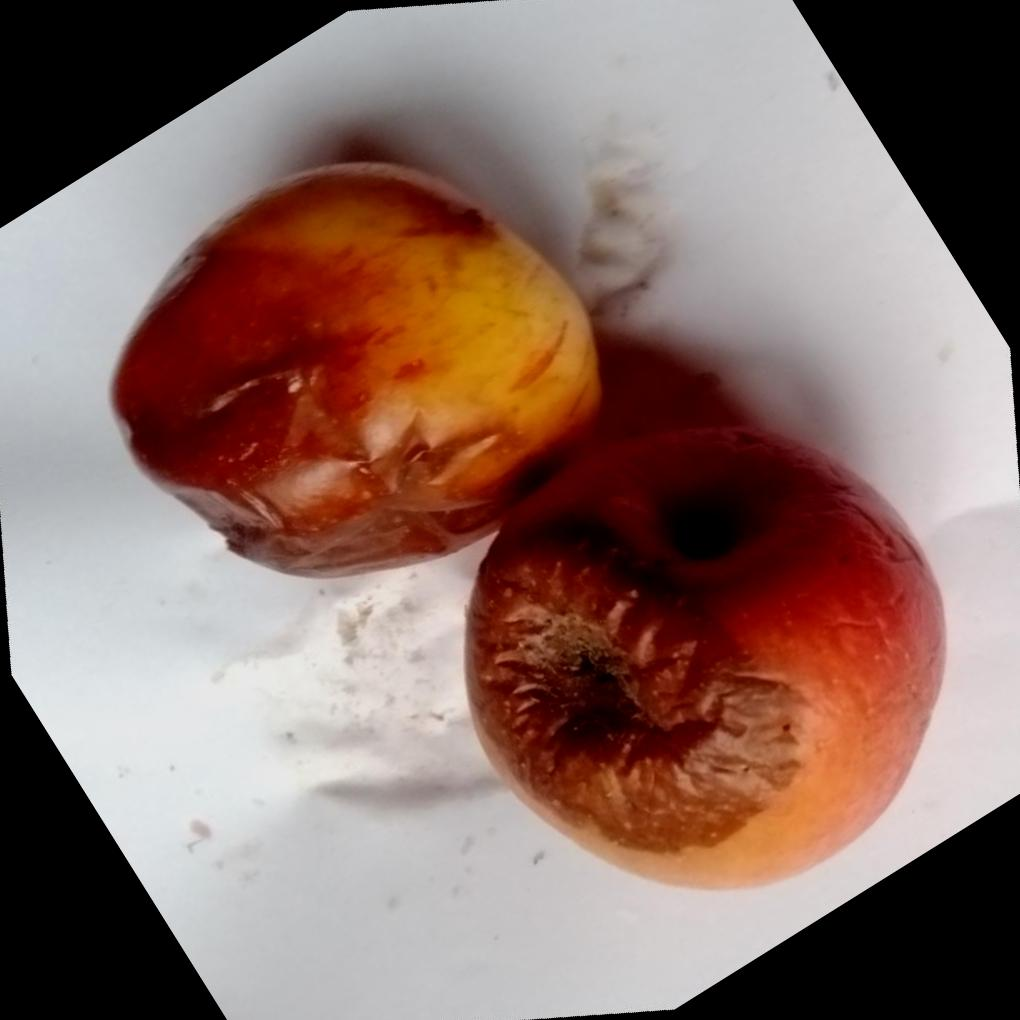FreshOrange: (109, 163, 949, 893)
